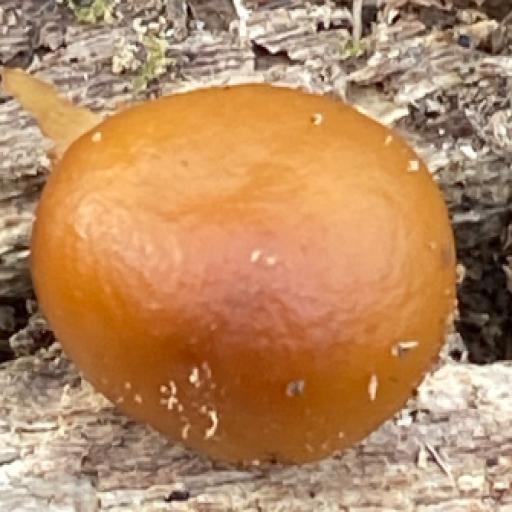mushroom: (0, 72, 464, 474)
